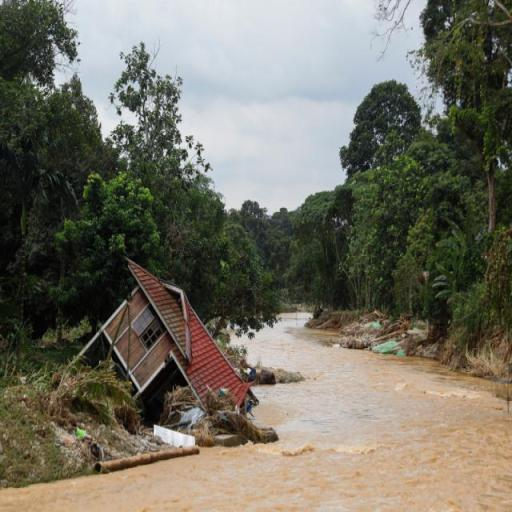flood: (0, 314, 512, 512)
house: (94, 246, 252, 436)
